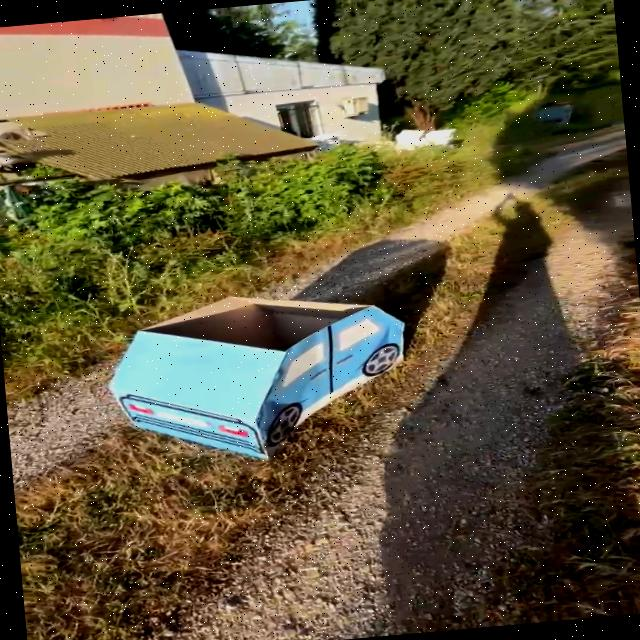blue_car: (75, 255, 472, 473)
